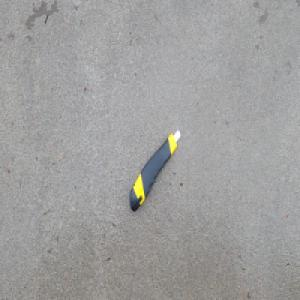Cutter: (129, 127, 181, 212)
